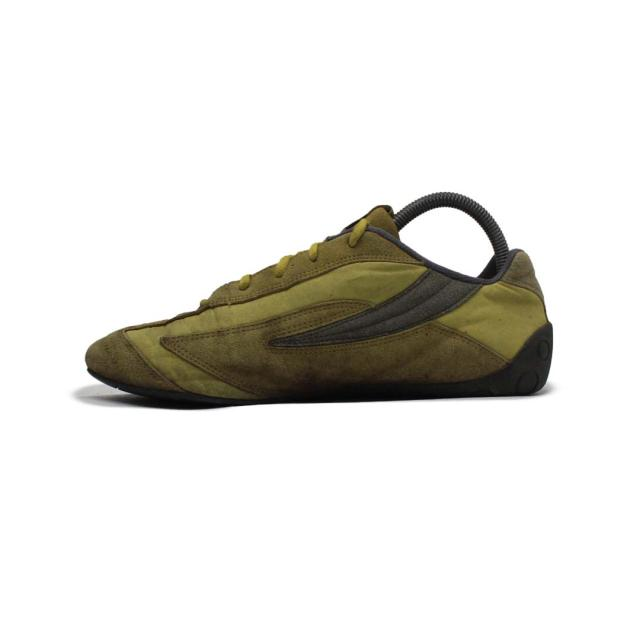heel: (510, 244, 567, 346)
midsole: (82, 363, 560, 398)
uppersole: (79, 248, 511, 384)
